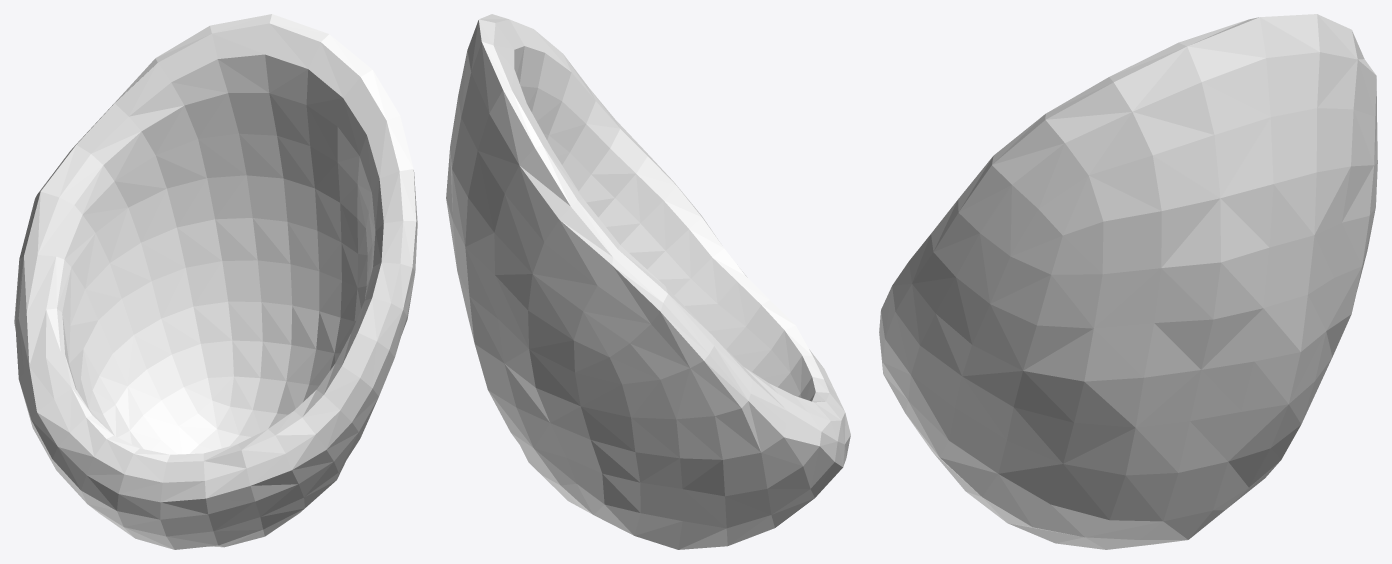
Rendered from normobj.OBJ.
The picture shows the model from 3 angles, left to right: view 1: azimuth 30°, elevation 25°; view 2: azimuth 150°, elevation 25°; view 3: azimuth 270°, elevation 25°; orthographic projection. The views are drawn at different scales.
Parts seen in each view (by area): view 1: ZBrush_defualt_group; view 2: ZBrush_defualt_group; view 3: ZBrush_defualt_group.
Part boxes in pixels (x1=…): ZBrush_defualt_group: x1=14, y1=14, x2=417, y2=549; ZBrush_defualt_group: x1=446, y1=14, x2=850, y2=549; ZBrush_defualt_group: x1=879, y1=14, x2=1377, y2=549.
Size of the model in its own units: 5.39 by 6.85 by 5.26.
1 material, 1 textured.
